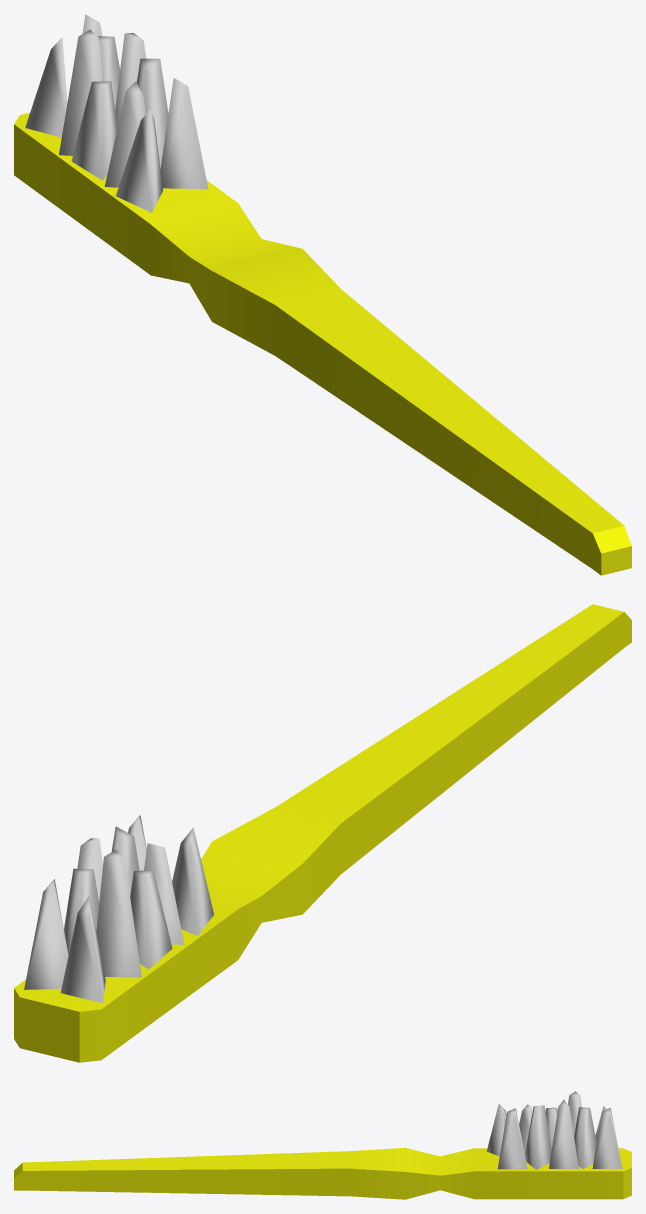
Rendered from Toothbrush_D.FBX.
3 renders of one model, top to bottom at view 1: azimuth 30°, elevation 25°; view 2: azimuth 150°, elevation 25°; view 3: azimuth 270°, elevation 25°, orthographic. The views are drawn at different scales.
Visible parts, largest first — view 1: Tooth_Brush_01; view 2: Tooth_Brush_01; view 3: Tooth_Brush_01.
Boxes of the visible parts, box(x1,y1,x2,y2) form: Tooth_Brush_01: box(14, 14, 631, 575); Tooth_Brush_01: box(14, 604, 631, 1062); Tooth_Brush_01: box(14, 1091, 631, 1199).
Bounding box in the file's own units: 6.59 × 11.67 × 71.32.
